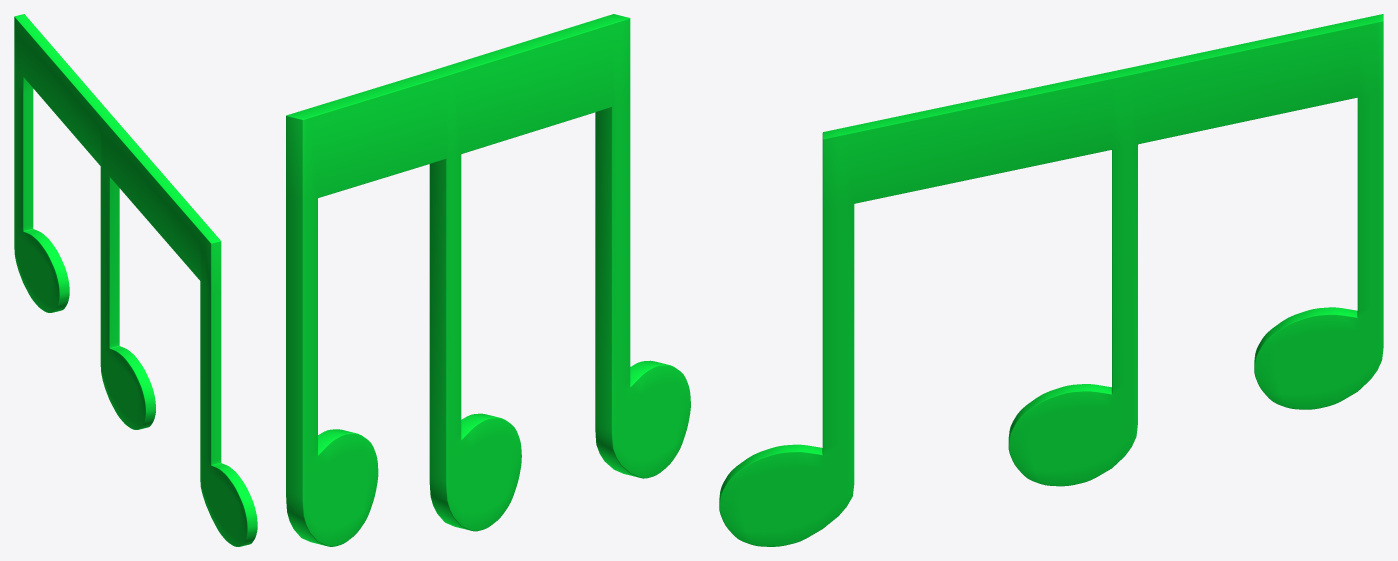
Rendered from musicNotes_03.fbx.
The picture shows the model from 3 angles, left to right: view 1: azimuth 30°, elevation 25°; view 2: azimuth 150°, elevation 25°; view 3: azimuth 270°, elevation 25°; orthographic projection. The views are drawn at different scales.
Parts seen in each view (by area): view 1: Cube.004; view 2: Cube.004; view 3: Cube.004.
Part boxes in pixels (x1,y1,x2,y2): Cube.004: [14, 14, 257, 546]; Cube.004: [286, 14, 690, 546]; Cube.004: [719, 14, 1383, 546].
Bounding box in the file's own units: 1.83 × 62.45 × 71.45.
